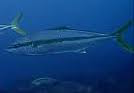hamati: (5, 23, 131, 57)
